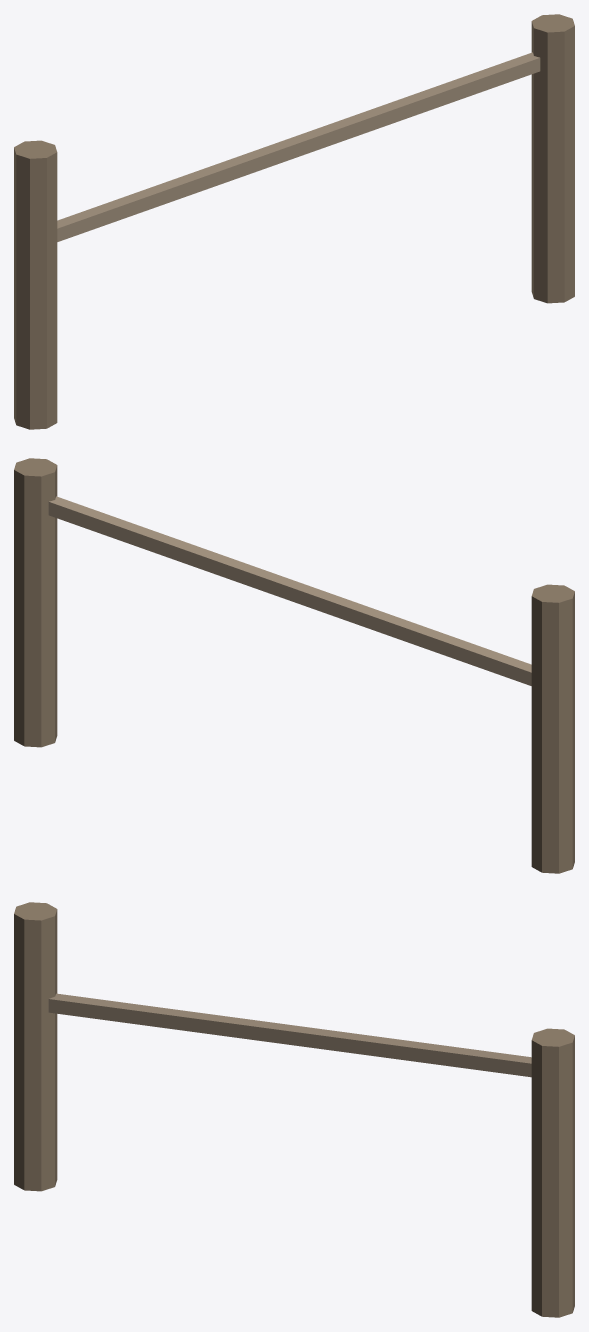
The model's file is rope_barrier.glb.
3 views of the same model, one above another, from view 1: azimuth 30°, elevation 25°; view 2: azimuth 150°, elevation 25°; view 3: azimuth 330°, elevation 25° (orthographic).
Parts seen in each view (by area): view 1: world; view 2: world; view 3: world.
Part boxes in pixels (x1,y1,x2,y2): world: (14,14,574,429); world: (14,458,574,873); world: (14,902,574,1317).
Bounding box in the file's own units: 1.72 × 0.8 × 0.12.
